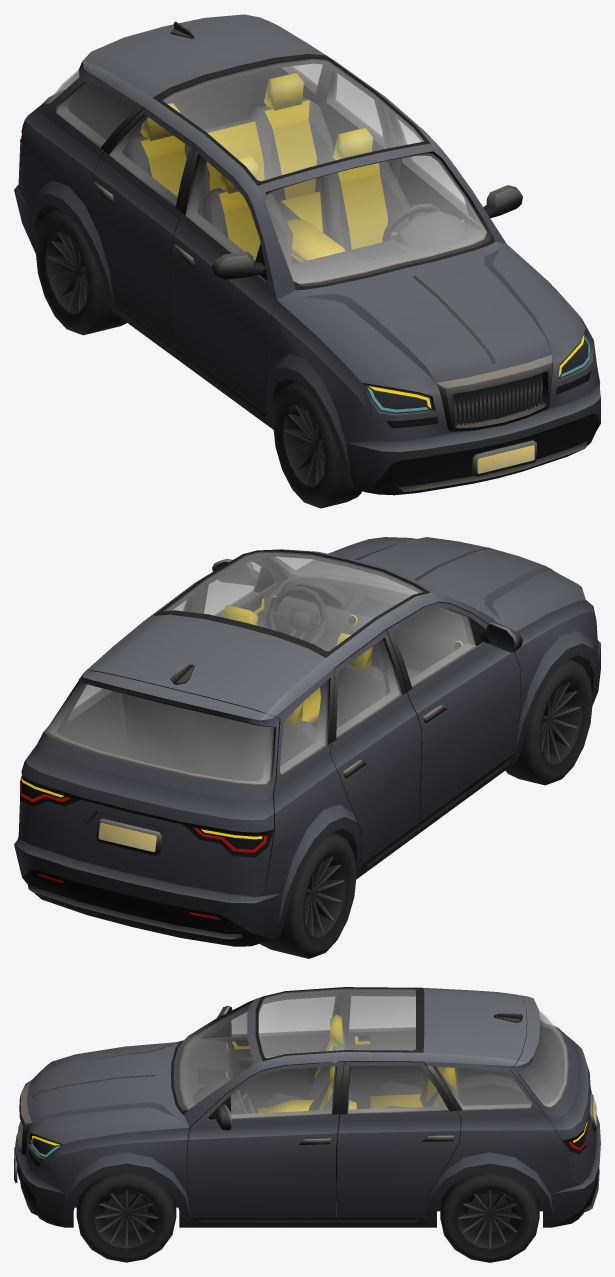
File: tp_suv_01c.glb
3 views of the same model, one above another, from view 1: azimuth 30°, elevation 25°; view 2: azimuth 150°, elevation 25°; view 3: azimuth 270°, elevation 25° (orthographic). The views are drawn at different scales.
Visible parts, largest first — view 1: TP_SUV_01C_Body, TP_SUV_01C_Door_F.R, TP_SUV_01C_Door_R.R, TP_SUV_01C_Trunk, TP_SUV_01C_Wheel_R.R, TP_SUV_01C_Wheel_F.R, TP_SUV_01C_Door_F.L, TP_SUV_01C_Door_R.L; view 2: TP_SUV_01C_Body, TP_SUV_01C_Trunk, TP_SUV_01C_Door_F.R, TP_SUV_01C_Door_R.R, TP_SUV_01C_Wheel_R.R, TP_SUV_01C_Wheel_F.R, TP_SUV_01C_Door_F.L, TP_SUV_01C_Steering_Wheel, TP_SUV_01C_Door_R.L; view 3: TP_SUV_01C_Body, TP_SUV_01C_Door_F.L, TP_SUV_01C_Door_R.L, TP_SUV_01C_Trunk, TP_SUV_01C_Door_F.R, TP_SUV_01C_Wheel_R.L, TP_SUV_01C_Wheel_F.L, TP_SUV_01C_Door_R.R, TP_SUV_01C_Steering_Wheel.
Boxes of the visible parts, x1,y1,x2,y2 form: TP_SUV_01C_Body: [14, 17, 600, 495]; TP_SUV_01C_Door_F.R: [170, 145, 276, 413]; TP_SUV_01C_Door_R.R: [90, 108, 196, 343]; TP_SUV_01C_Trunk: [18, 14, 273, 184]; TP_SUV_01C_Wheel_R.R: [35, 208, 126, 335]; TP_SUV_01C_Wheel_F.R: [273, 382, 361, 508]; TP_SUV_01C_Door_F.L: [386, 109, 522, 229]; TP_SUV_01C_Door_R.L: [319, 66, 384, 159]; TP_SUV_01C_Body: [14, 537, 600, 946]; TP_SUV_01C_Trunk: [18, 670, 279, 896]; TP_SUV_01C_Door_F.R: [385, 602, 522, 820]; TP_SUV_01C_Door_R.R: [329, 630, 421, 863]; TP_SUV_01C_Wheel_R.R: [260, 832, 356, 958]; TP_SUV_01C_Wheel_F.R: [505, 658, 592, 785]; TP_SUV_01C_Door_F.L: [204, 558, 284, 627]; TP_SUV_01C_Steering_Wheel: [267, 586, 328, 645]; TP_SUV_01C_Door_R.L: [116, 591, 196, 752]; TP_SUV_01C_Body: [14, 987, 600, 1227]; TP_SUV_01C_Door_F.L: [187, 1061, 343, 1216]; TP_SUV_01C_Door_R.L: [337, 1061, 460, 1216]; TP_SUV_01C_Trunk: [510, 995, 596, 1182]; TP_SUV_01C_Door_F.R: [200, 994, 337, 1113]; TP_SUV_01C_Wheel_R.L: [440, 1171, 539, 1262]; TP_SUV_01C_Wheel_F.L: [76, 1171, 176, 1262]; TP_SUV_01C_Door_R.R: [346, 993, 424, 1108]; TP_SUV_01C_Steering_Wheel: [231, 1086, 254, 1114].
Bounding box in the file's own units: 2.4 × 2 × 5.2.
3 materials, 3 textured.
